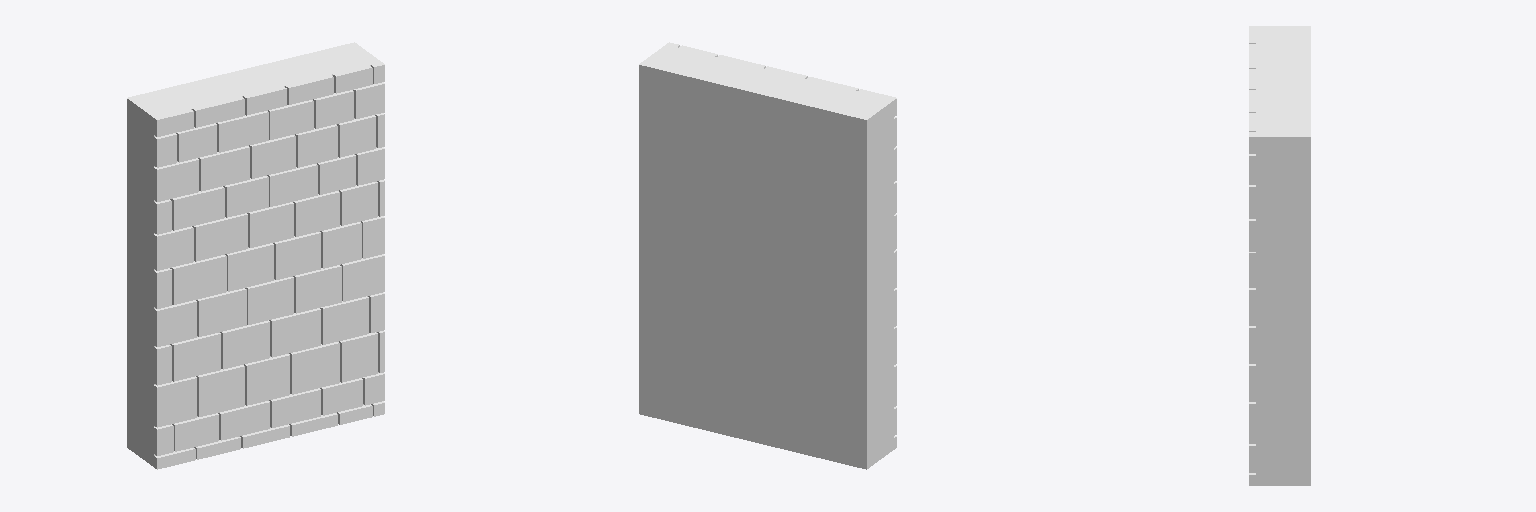
The model's file is Wand_depth.obj.
3 renders of one model, left to right at view 1: azimuth 30°, elevation 25°; view 2: azimuth 150°, elevation 25°; view 3: azimuth 270°, elevation 25°, orthographic.
Visible parts, largest first — view 1: object 1; view 2: object 1; view 3: object 1.
Boxes of the visible parts, x1=… form: object 1: x1=127, y1=42, x2=384, y2=469; object 1: x1=639, y1=42, x2=896, y2=469; object 1: x1=1249, y1=26, x2=1310, y2=485.
Bounding box in the file's own units: 12.5 × 18.3 × 2.9.